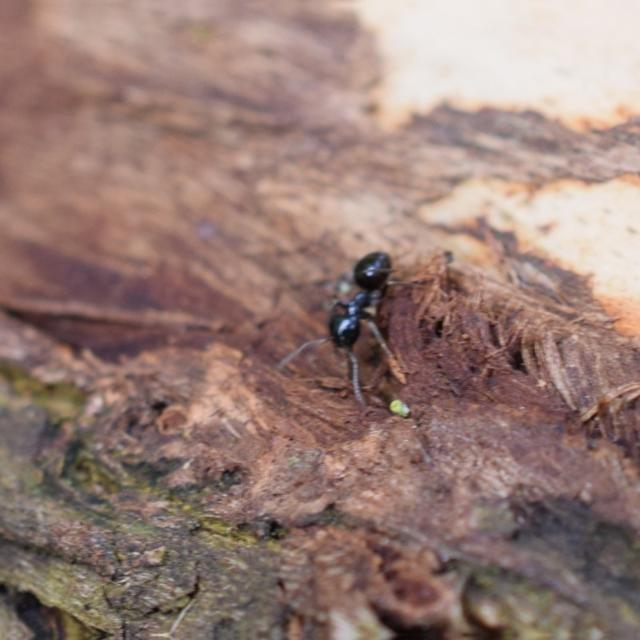Lasius: (286, 228, 426, 368)
